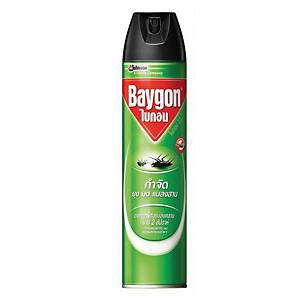Insecticide: (118, 8, 191, 291)
